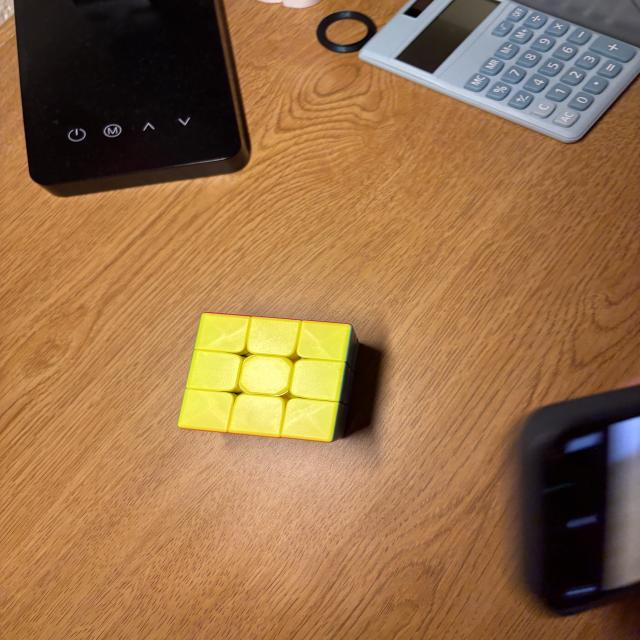Rubiks Cube: (175, 313, 352, 440)
